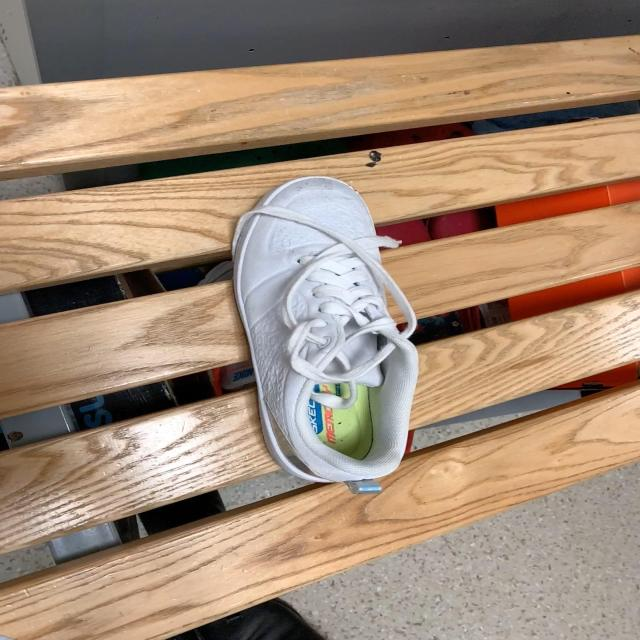shoe: (231, 183, 419, 491)
